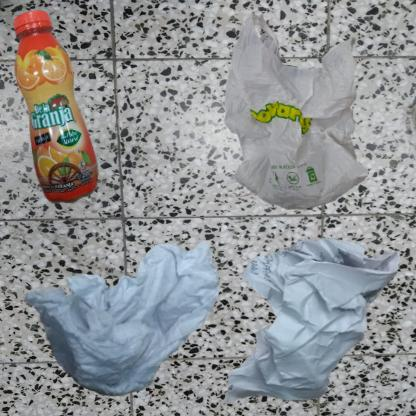bolsa: (213, 10, 389, 223)
botella: (10, 10, 102, 206)
papel: (10, 213, 233, 416), (213, 213, 414, 416)
